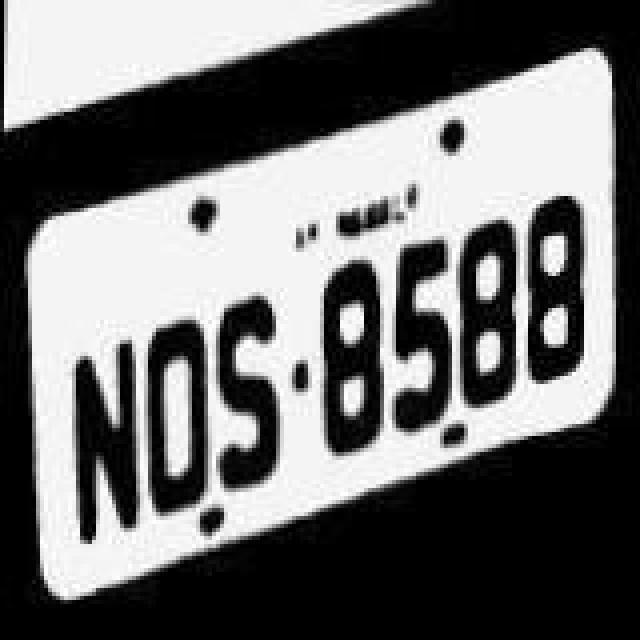5: (384, 238, 464, 434)
8: (522, 164, 598, 412), (304, 254, 384, 470), (454, 202, 522, 422)
N: (62, 308, 142, 556)
O: (140, 302, 216, 514)
S: (210, 278, 298, 498)
